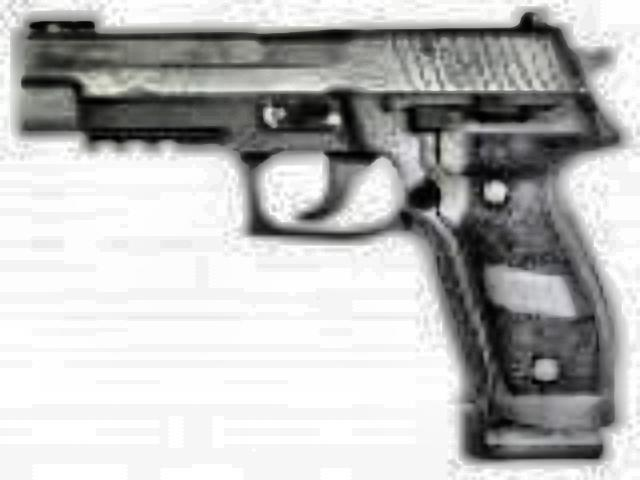pistol: (16, 4, 624, 468)
